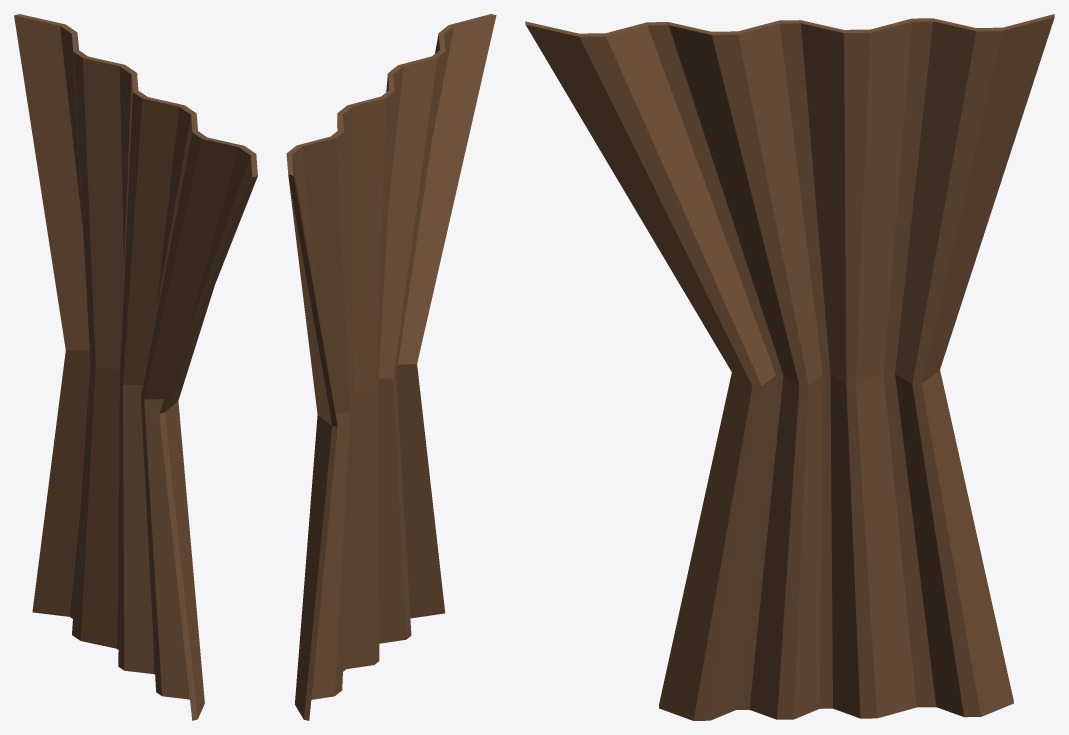
Rendered from Bedroom_Curtain.fbx.
3 views of the same model, side by side, from view 1: azimuth 30°, elevation 25°; view 2: azimuth 150°, elevation 25°; view 3: azimuth 270°, elevation 25° (orthographic). The views are drawn at different scales.
Parts seen in each view (by area): view 1: Bedroom_Curtain; view 2: Bedroom_Curtain; view 3: Bedroom_Curtain.
Part boxes in pixels (left/top/right/bottom): Bedroom_Curtain: left=14, top=14, right=257, bottom=720; Bedroom_Curtain: left=286, top=14, right=496, bottom=720; Bedroom_Curtain: left=525, top=14, right=1054, bottom=720.
Size of the model in its own units: 23.07 by 323 by 226.
